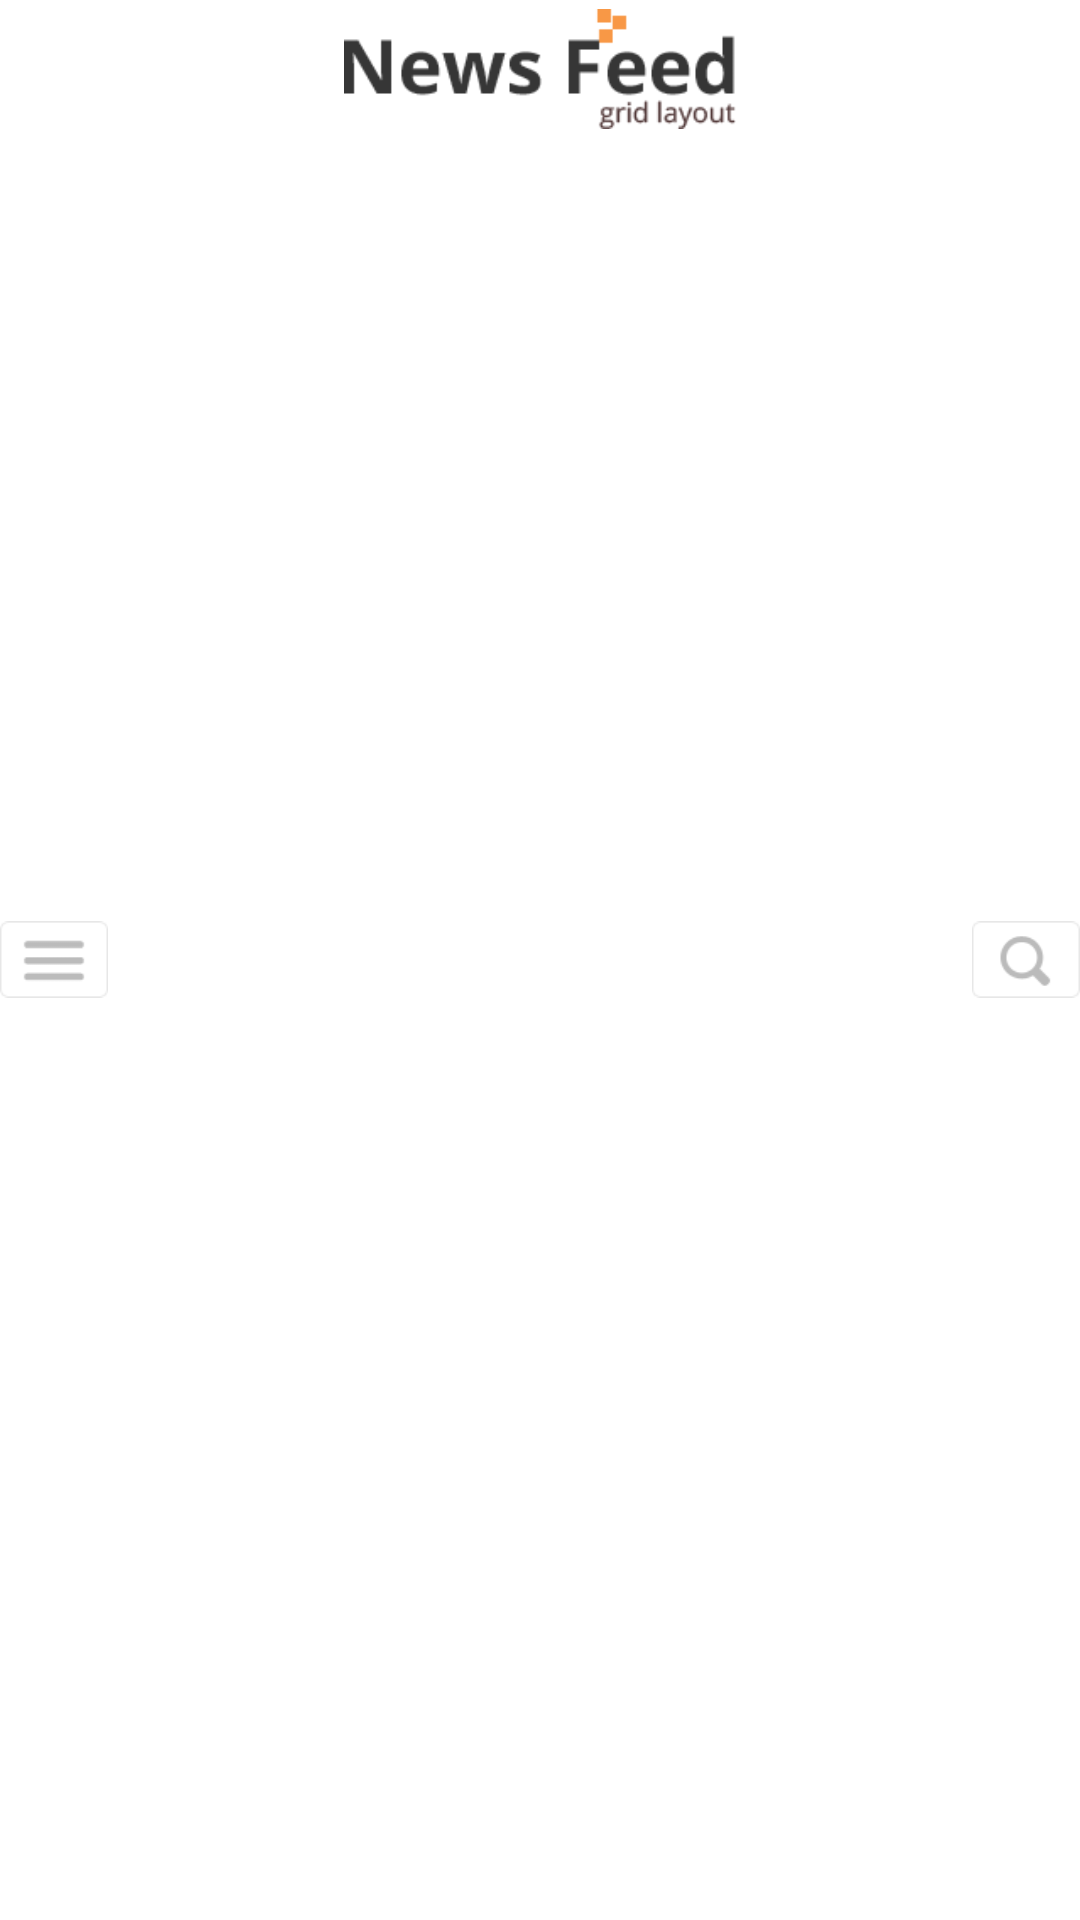

Named icons in this screenshot (1080×1920) and their centers, (x,y):
menu: (54,960)
searchicon: (1025,961)
